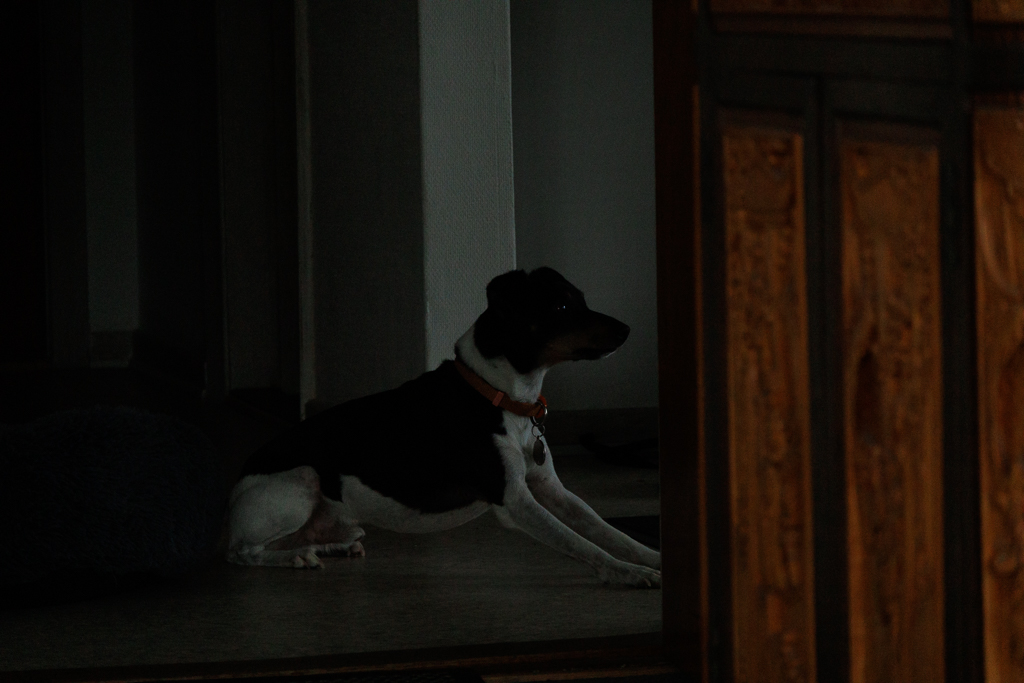Dog: (197, 257, 668, 591)
